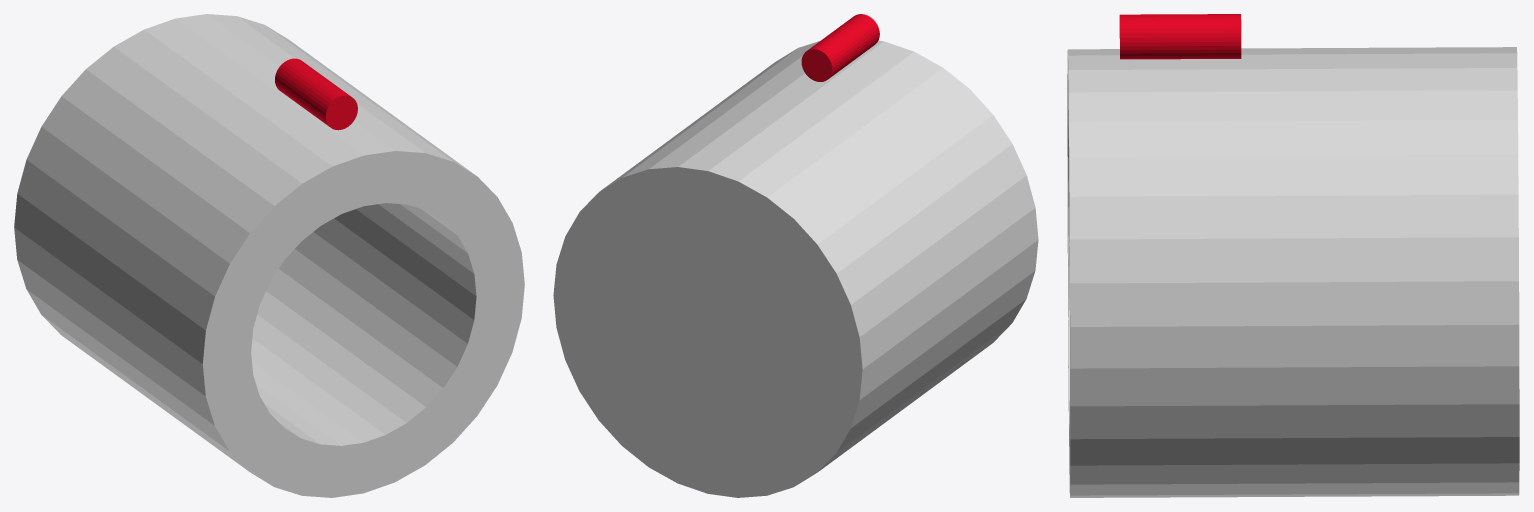
The model's file is aircanon_withgunfire_rotate2.glb.
3 renders of one model, left to right at view 1: azimuth 30°, elevation 25°; view 2: azimuth 150°, elevation 25°; view 3: azimuth 270°, elevation 25°, orthographic. The views are drawn at different scales.
Visible parts, largest first — view 1: Cylinder.001, Cylinder; view 2: Cylinder.001, Cylinder; view 3: Cylinder.001, Cylinder.
Boxes of the visible parts, left/top/right/bottom form: Cylinder.001: left=14, top=14, right=524, bottom=497; Cylinder: left=275, top=58, right=357, bottom=130; Cylinder.001: left=553, top=40, right=1038, bottom=497; Cylinder: left=801, top=14, right=879, bottom=81; Cylinder.001: left=1067, top=47, right=1519, bottom=497; Cylinder: left=1119, top=14, right=1241, bottom=59.
Size of what is drawn, in the model's own units: 2.01 by 2.26 by 2.01.
